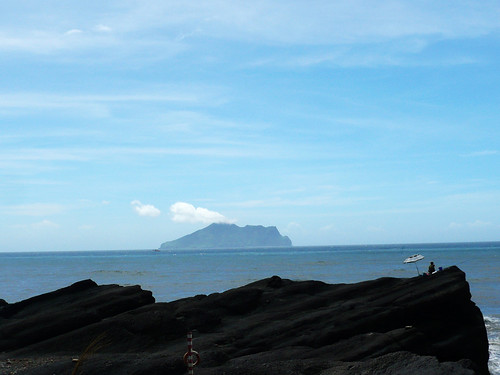turtleIsland: (161, 222, 291, 247)
